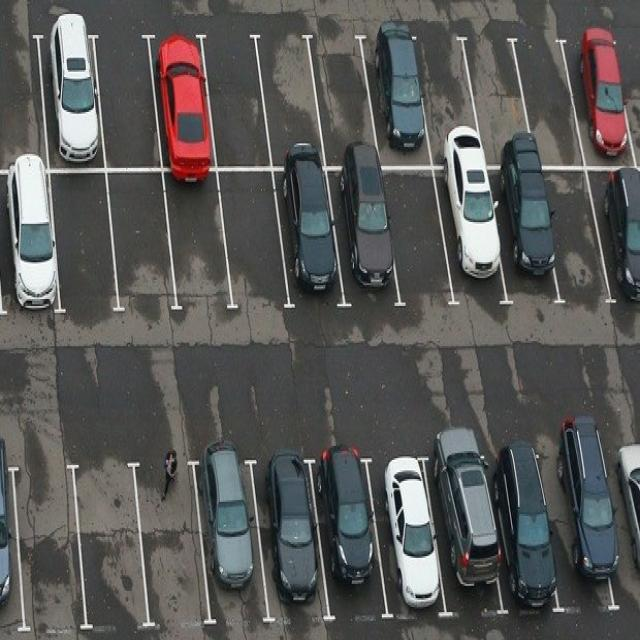space-empty: (137, 460, 210, 624), (18, 464, 83, 622), (220, 165, 287, 312), (78, 469, 142, 622), (52, 166, 115, 315), (96, 30, 160, 171), (518, 28, 582, 166), (391, 160, 449, 310), (312, 28, 374, 161), (204, 32, 264, 166), (167, 172, 224, 310), (421, 29, 479, 162), (258, 34, 317, 154), (115, 172, 166, 308), (550, 165, 596, 308), (0, 28, 45, 169), (471, 34, 524, 150)
space-occupied: (555, 437, 612, 619), (436, 164, 504, 306), (261, 444, 315, 622), (377, 445, 430, 624), (278, 162, 342, 310), (322, 453, 380, 616), (435, 448, 492, 610), (564, 23, 628, 164), (200, 459, 256, 614), (0, 170, 59, 314), (368, 26, 428, 161), (155, 29, 212, 170), (501, 448, 547, 618), (44, 20, 96, 166), (341, 171, 395, 306), (589, 163, 639, 306), (504, 163, 545, 297), (0, 455, 22, 631)
